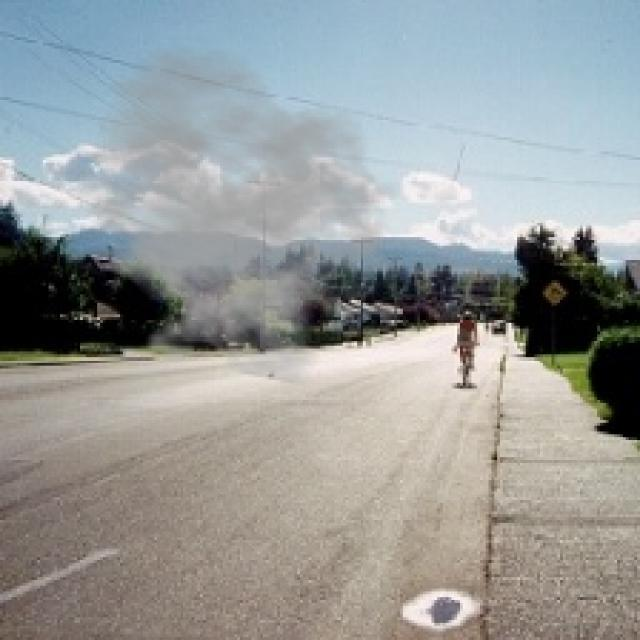Smoke: (51, 42, 406, 388)
